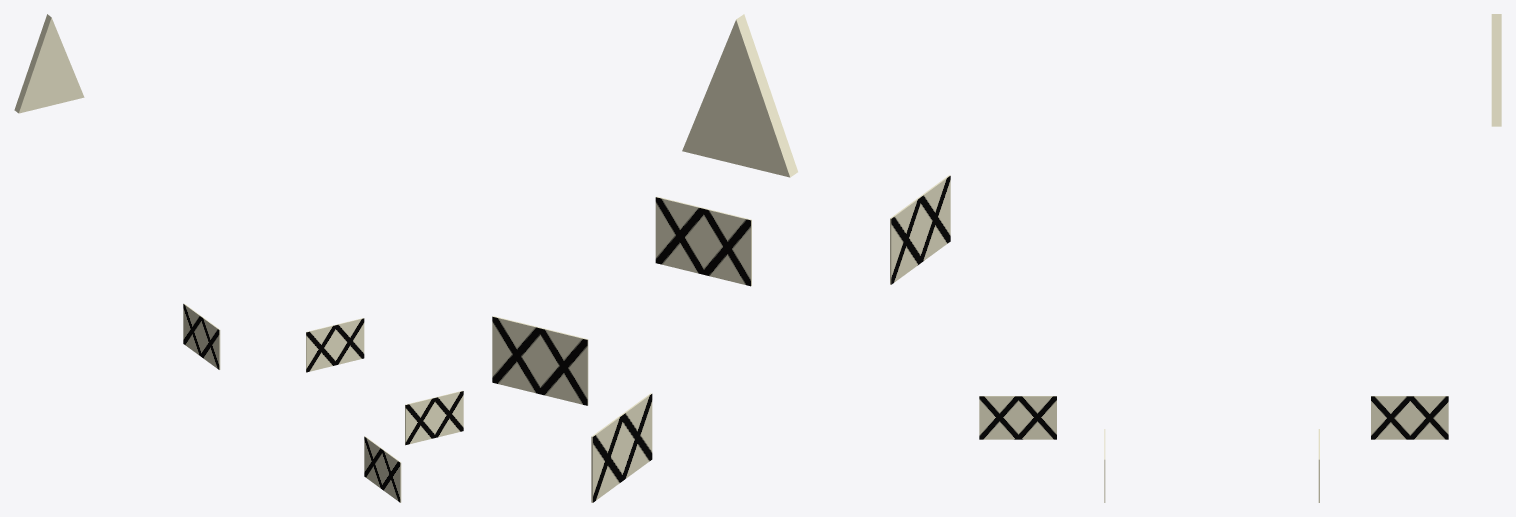
File: ventanas.obj
3 renders of one model, left to right at view 1: azimuth 30°, elevation 25°; view 2: azimuth 150°, elevation 25°; view 3: azimuth 270°, elevation 25°, orthographic. The views are drawn at different scales.
Visible parts, largest first — view 1: pCube73; view 2: pCube73; view 3: pCube73.
Boxes of the visible parts, x1=… form: pCube73: x1=14, y1=14, x2=463, y2=502; pCube73: x1=492, y1=14, x2=950, y2=502; pCube73: x1=979, y1=14, x2=1501, y2=502.
Size of the model in its own units: 1.49 by 1.82 by 2.35.
Materials: 1 (1 with a texture image).
